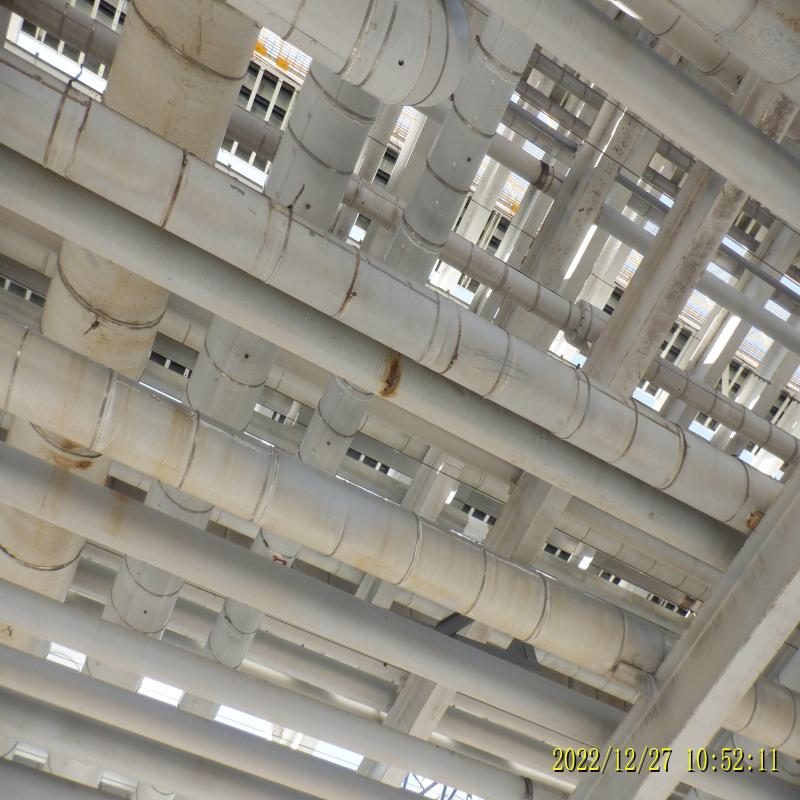corrosion: (382, 356, 412, 389)
